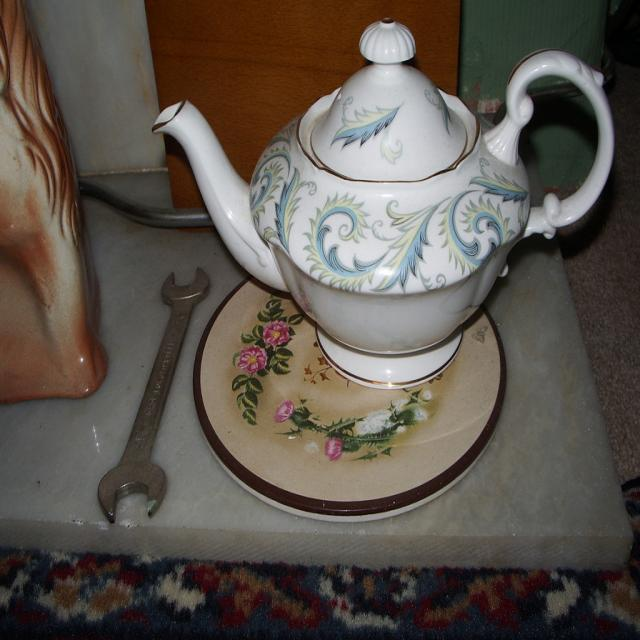non-organic waste: (182, 217, 542, 525)
